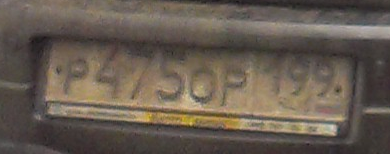character: (156, 45, 189, 102), (95, 44, 124, 100), (128, 45, 155, 101), (188, 66, 219, 108), (220, 66, 248, 109), (62, 54, 89, 97), (289, 53, 313, 100), (264, 51, 286, 99), (314, 54, 336, 100)
